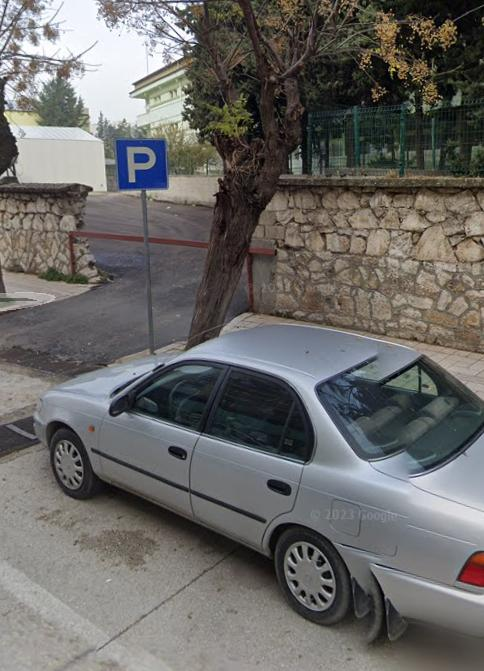park: (117, 141, 165, 185)
